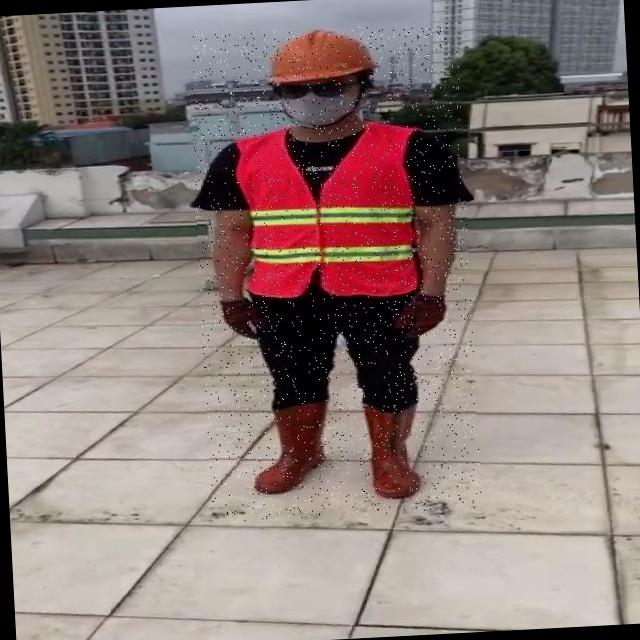boots: (252, 406, 334, 494), (362, 404, 424, 503)
helmet: (260, 27, 376, 89)
vest: (236, 124, 418, 305)
